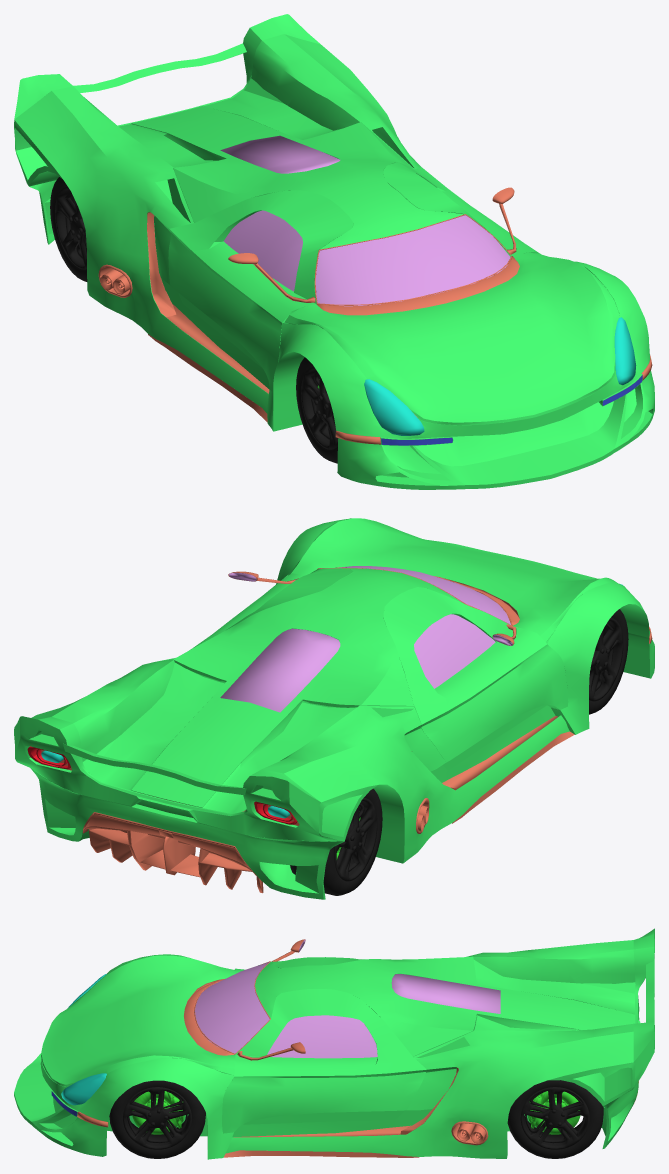
Rendered from poker_Retopo_Final.fbx.
The picture shows the model from 3 angles, top to bottom: view 1: azimuth 30°, elevation 25°; view 2: azimuth 150°, elevation 25°; view 3: azimuth 270°, elevation 25°; orthographic projection. The views are drawn at different scales.
Visible parts, largest first — view 1: carbody_l, nonstransperentglass_l, extras_l, transperentglass_l, breaks_l.002, breaks_l.003, frontlights_l; view 2: carbody_l, nonstransperentglass_l, extras_l, breaks_l.003, breaks_l.002, backlights_l; view 3: carbody_l, nonstransperentglass_l, breaks_l.001, breaks_l, extras_l, transperentglass_l.
Part boxes in pixels (x1,y1,x2,y2): carbody_l: (14, 14, 654, 489); nonstransperentglass_l: (220, 135, 510, 306); extras_l: (98, 187, 652, 444); transperentglass_l: (364, 317, 636, 435); breaks_l.002: (296, 357, 338, 463); breaks_l.003: (50, 177, 87, 281); frontlights_l: (381, 375, 642, 445); carbody_l: (14, 518, 654, 899); nonstransperentglass_l: (220, 566, 512, 712); extras_l: (37, 567, 652, 893); breaks_l.003: (290, 788, 382, 895); breaks_l.002: (589, 609, 628, 714); backlights_l: (27, 746, 297, 824); carbody_l: (14, 928, 654, 1159); nonstransperentglass_l: (194, 939, 500, 1058); breaks_l.001: (109, 1080, 205, 1158); breaks_l: (507, 1080, 603, 1158); extras_l: (77, 939, 638, 1157); transperentglass_l: (61, 974, 106, 1105).
Bounding box in the file's own units: 227 × 110 × 485.
